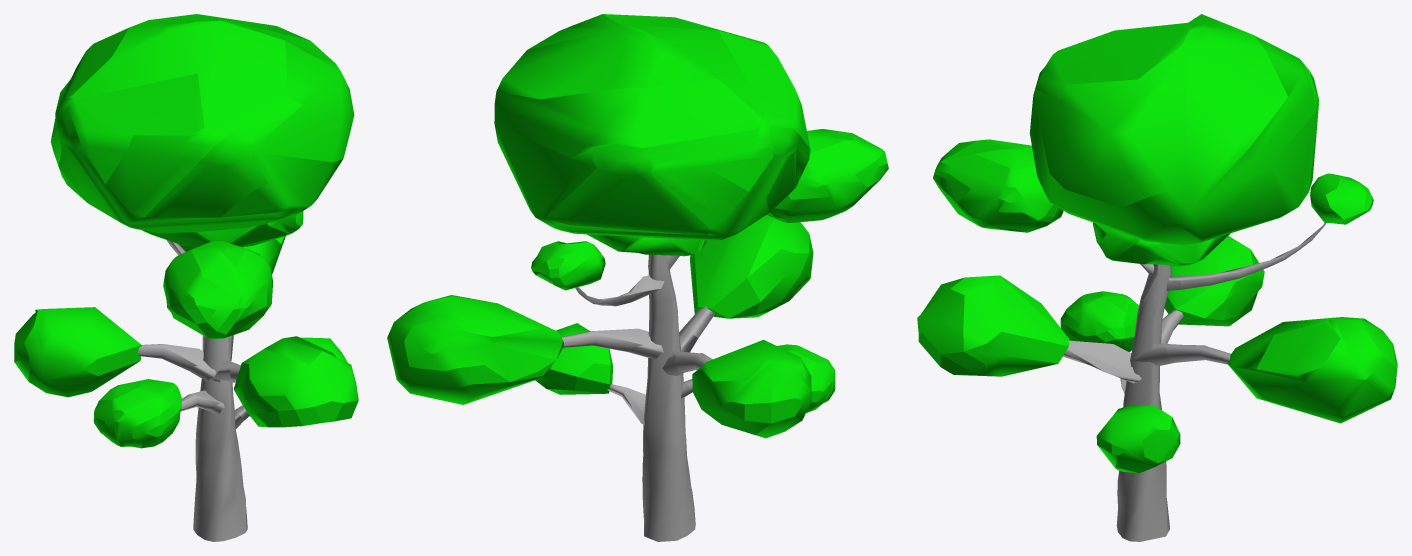
The model's file is Tree.fbx.
3 views of the same model, side by side, from view 1: azimuth 30°, elevation 25°; view 2: azimuth 150°, elevation 25°; view 3: azimuth 270°, elevation 25° (orthographic). The views are drawn at different scales.
Visible parts, largest first — view 1: pPlatonic9, pPlatonic1, pPlatonic5, pPlatonic7, sweep1, pPlatonic4, pPlatonic8, sweep7, pPlatonic2, sweep9; view 2: pPlatonic9, pPlatonic2, sweep1, pPlatonic1, pPlatonic5, pPlatonic7, pPlatonic3, pPlatonic6, sweep5, pPlatonic8, pPlatonic4, sweep3 (+3 smaller); view 3: pPlatonic9, pPlatonic2, pPlatonic1, pPlatonic7, sweep1, pPlatonic5, pPlatonic3, pPlatonic4, pPlatonic8, pPlatonic6, sweep4, sweep3 (+1 smaller).
Boxes of the visible parts, left/top/right/bottom form: pPlatonic9: left=50, top=14, right=354, bottom=233; pPlatonic1: left=233, top=336, right=358, bottom=427; pPlatonic5: left=14, top=307, right=141, bottom=397; pPlatonic7: left=163, top=241, right=273, bottom=338; sweep1: left=193, top=335, right=247, bottom=541; pPlatonic4: left=93, top=379, right=182, bottom=448; pPlatonic8: left=142, top=211, right=303, bottom=247; sweep7: left=138, top=344, right=220, bottom=382; pPlatonic2: left=179, top=235, right=285, bottom=273; sweep9: left=180, top=390, right=224, bottom=415; pPlatonic9: left=494, top=14, right=810, bottom=240; pPlatonic2: left=387, top=295, right=563, bottom=404; sweep1: left=642, top=254, right=695, bottom=541; pPlatonic1: left=689, top=215, right=813, bottom=318; pPlatonic5: left=692, top=340, right=811, bottom=438; pPlatonic7: left=766, top=129, right=888, bottom=222; pPlatonic3: left=535, top=323, right=613, bottom=394; pPlatonic6: left=531, top=241, right=605, bottom=290; sweep5: left=561, top=328, right=663, bottom=358; pPlatonic8: left=587, top=234, right=707, bottom=256; pPlatonic4: left=777, top=344, right=835, bottom=412; sweep3: left=575, top=275, right=664, bottom=306; pPlatonic9: left=1029, top=14, right=1319, bottom=244; pPlatonic2: left=1227, top=317, right=1397, bottom=423; pPlatonic1: left=917, top=275, right=1069, bottom=376; pPlatonic7: left=933, top=139, right=1063, bottom=232; sweep1: left=1116, top=264, right=1171, bottom=541; pPlatonic5: left=1164, top=236, right=1264, bottom=326; pPlatonic3: left=1096, top=405, right=1180, bottom=473; pPlatonic4: left=1060, top=291, right=1138, bottom=352; pPlatonic8: left=1093, top=222, right=1230, bottom=266; pPlatonic6: left=1310, top=173, right=1373, bottom=224; sweep4: left=1063, top=340, right=1141, bottom=383; sweep3: left=1166, top=222, right=1326, bottom=290.
Size of the model in its own units: 28.44 by 40.96 by 35.68.
